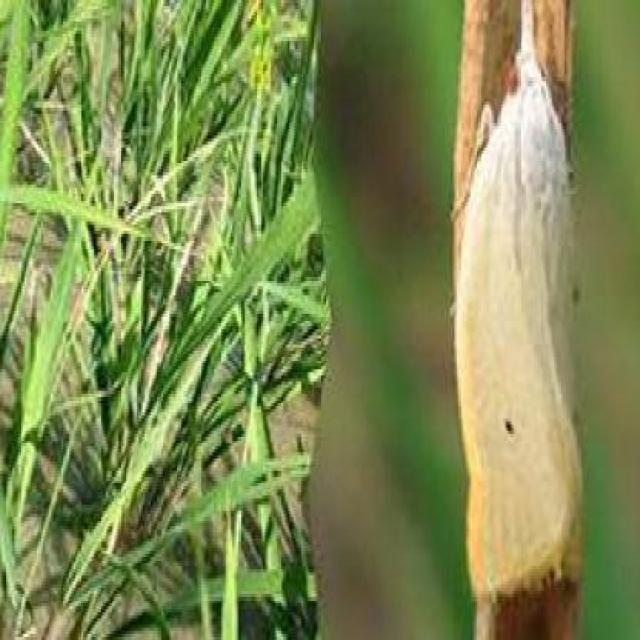stem-borer: (448, 0, 589, 606)
